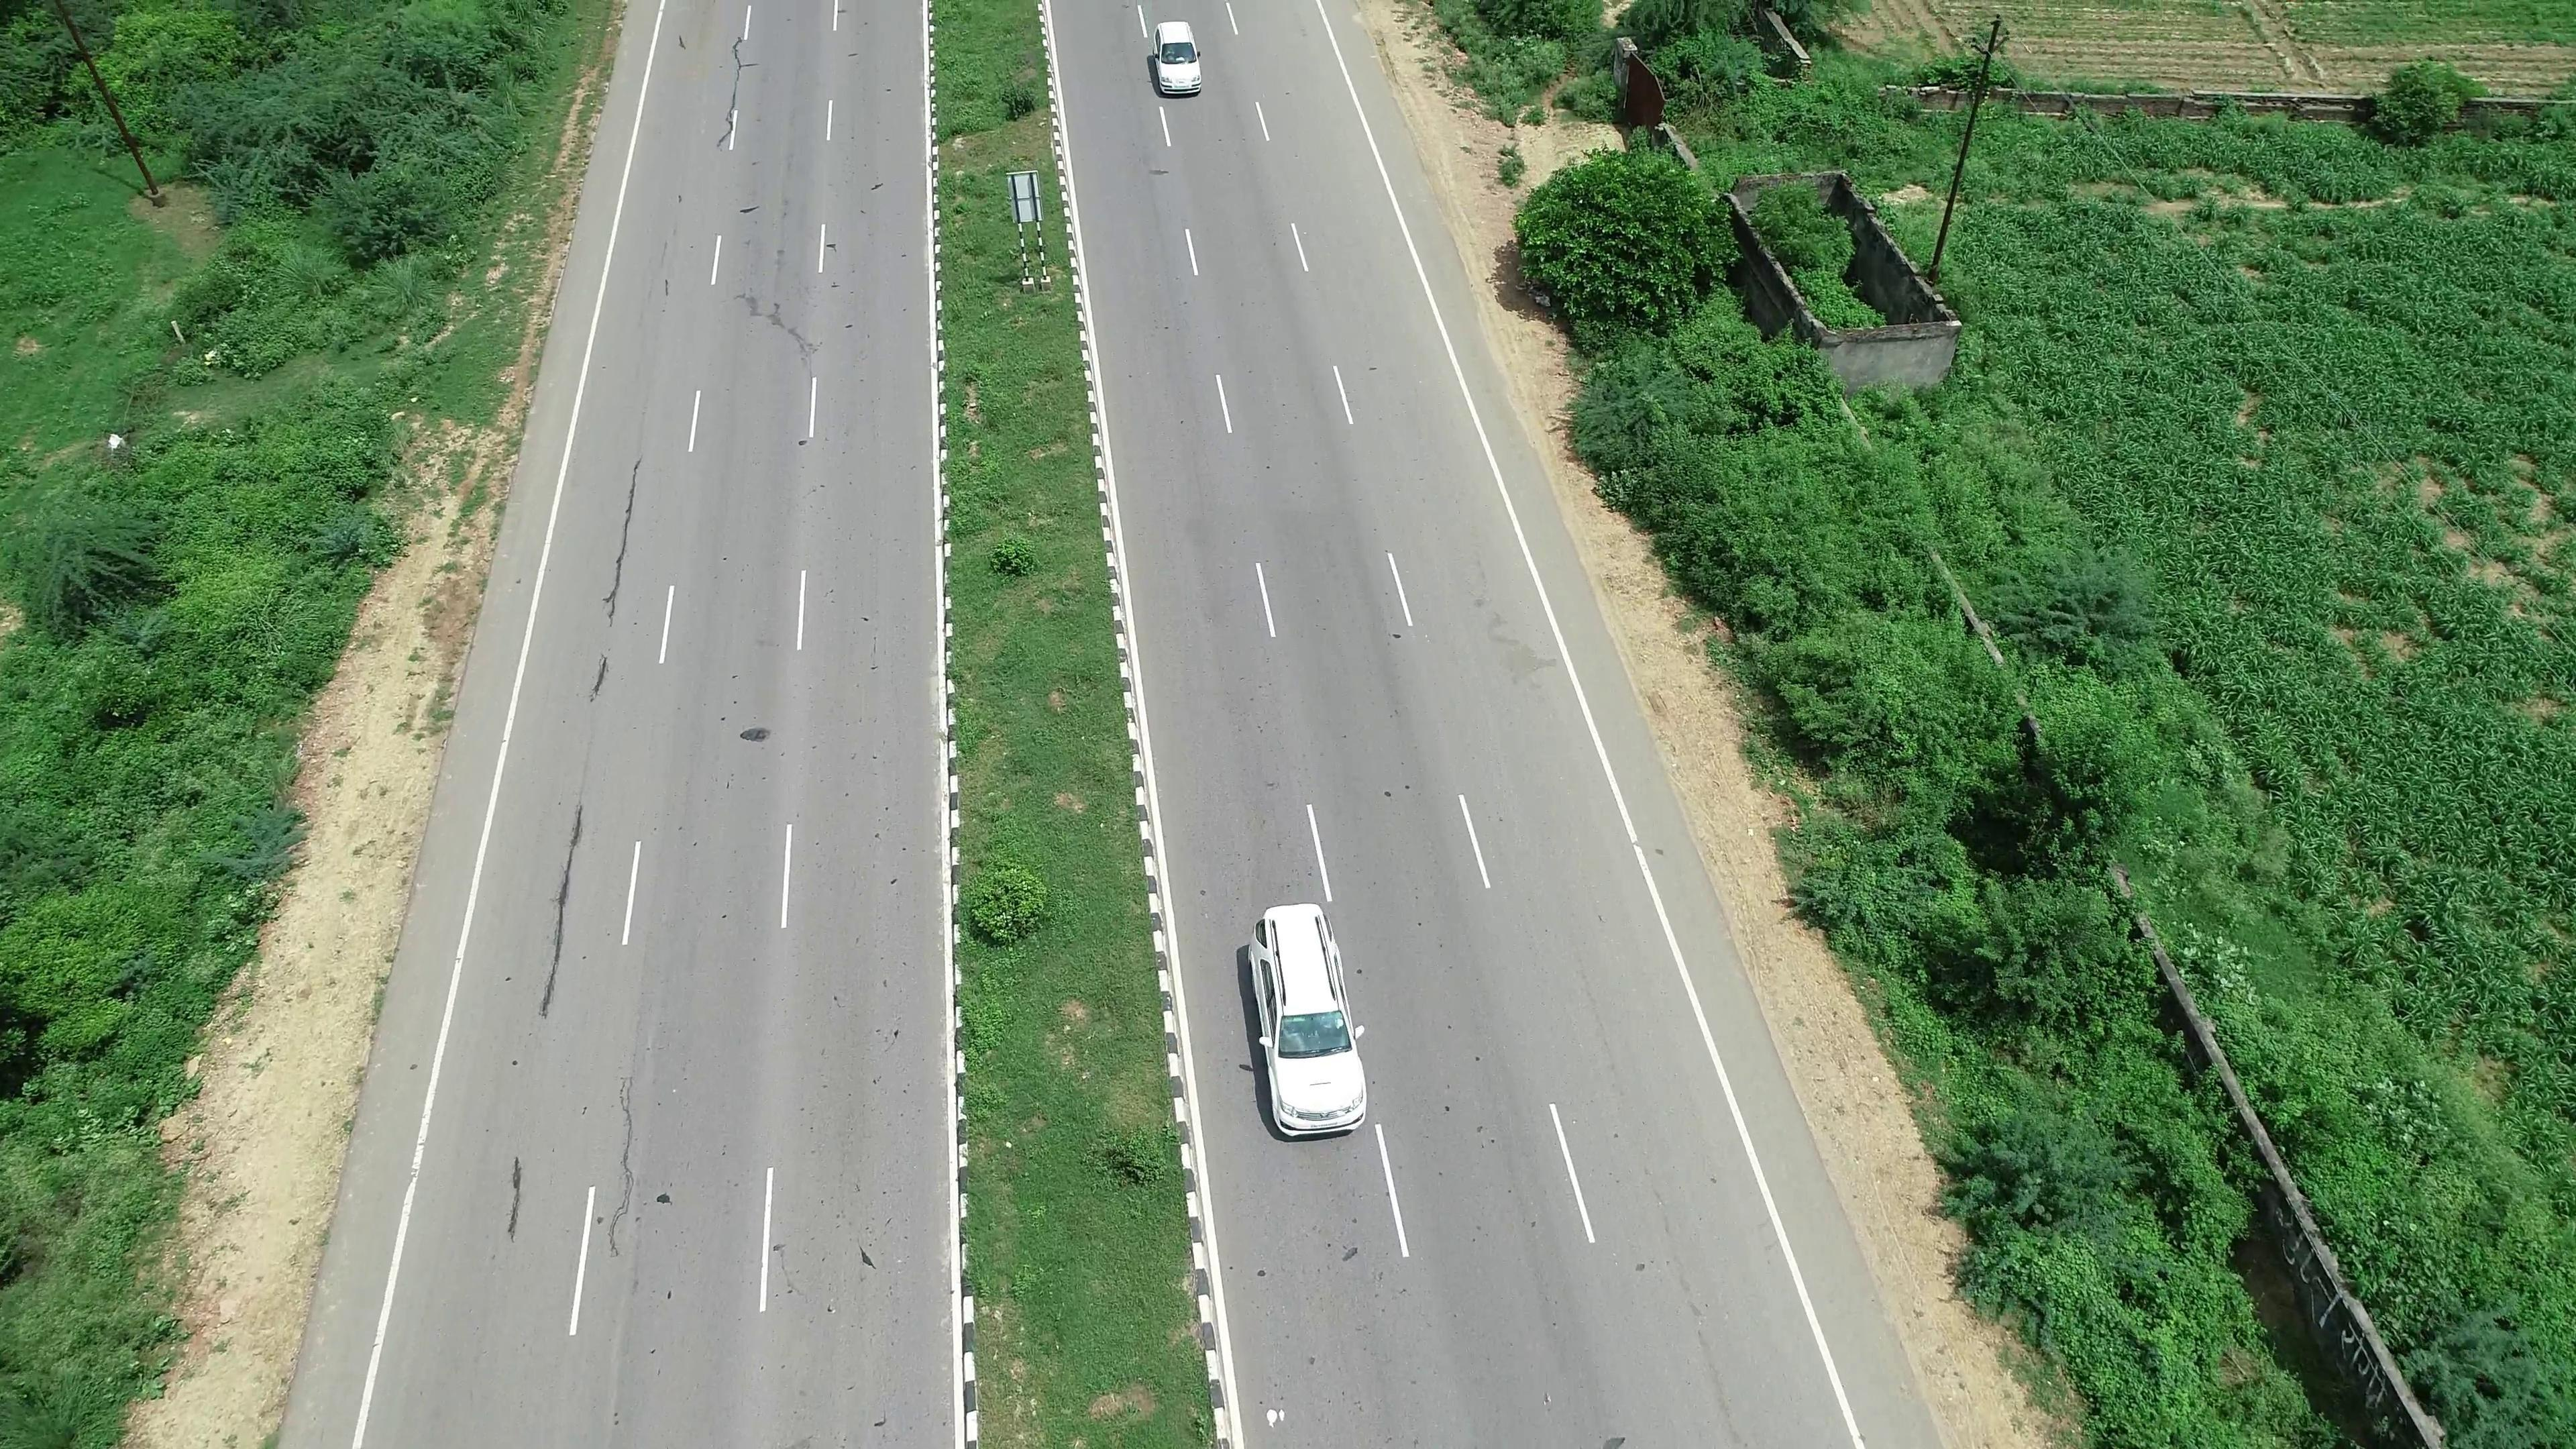Longitudinal_cracks: (564, 441, 667, 697), (517, 794, 612, 1028), (602, 1077, 640, 1260)
